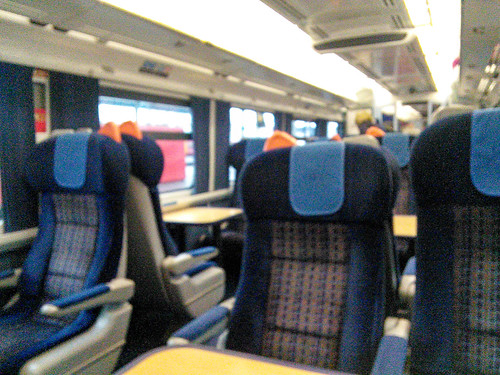chair: (227, 146, 389, 375), (1, 136, 136, 375), (389, 117, 500, 375), (117, 124, 227, 313)
